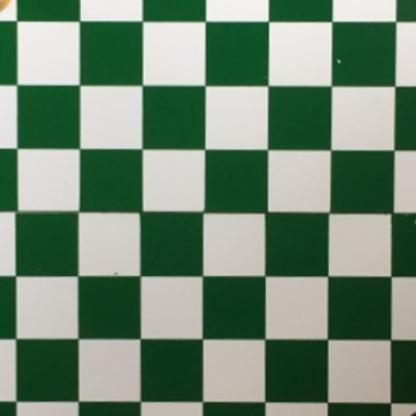black-king: (398, 408, 416, 416)
white-king: (0, 0, 17, 17)
